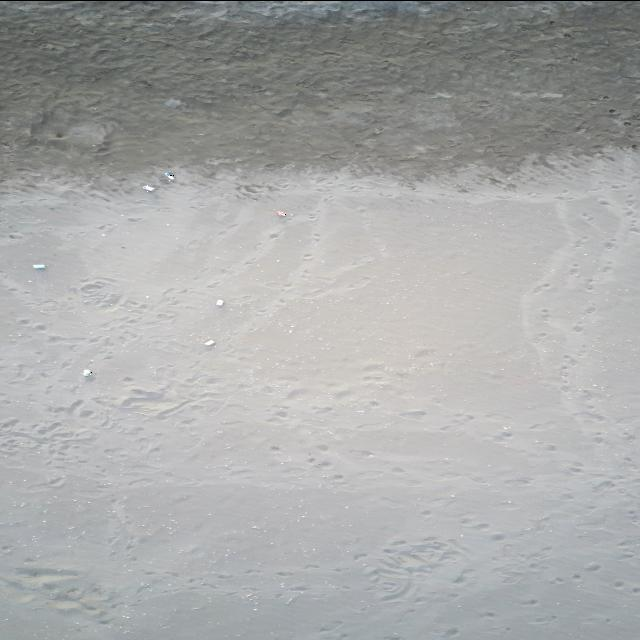Garbage: (163, 98, 180, 108), (163, 169, 175, 180), (203, 339, 215, 346), (142, 183, 154, 190), (276, 209, 287, 216), (83, 368, 92, 376), (32, 263, 44, 268), (216, 299, 223, 306)
